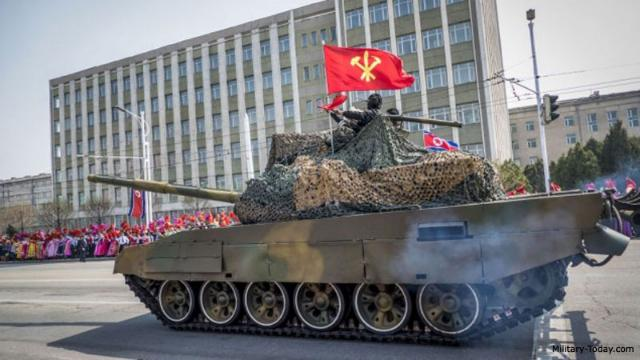other: (80, 236, 84, 260)
tank: (120, 192, 570, 330)
